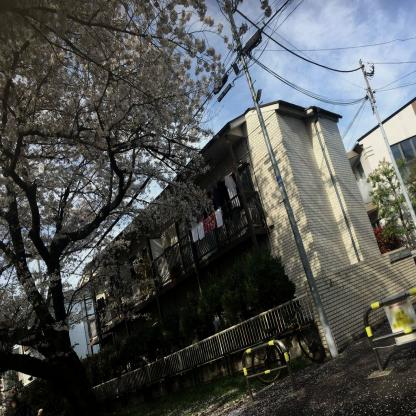Someiyoshino: (0, 1, 236, 358)
